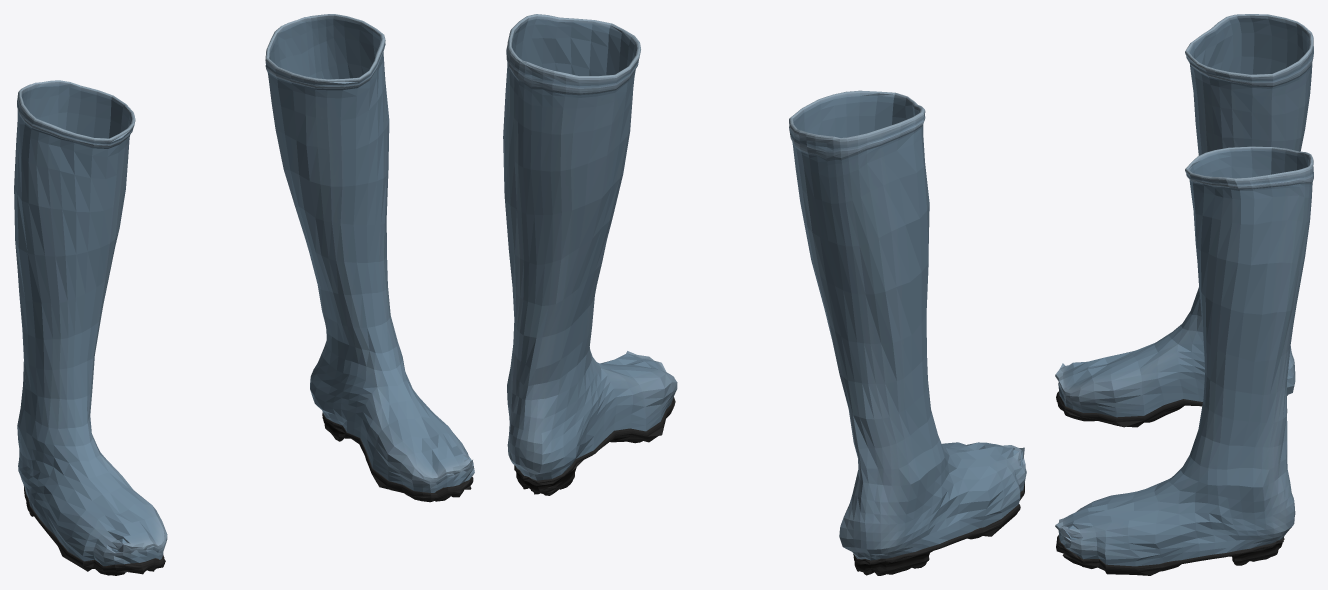
Rendered from mhw_scailman_semitransparent_water_boots.glb.
3 renders of one model, left to right at view 1: azimuth 30°, elevation 25°; view 2: azimuth 150°, elevation 25°; view 3: azimuth 270°, elevation 25°, orthographic. The views are drawn at different scales.
Visible parts, largest first — view 1: mhw_scailman_semitransparent_water_boots; view 2: mhw_scailman_semitransparent_water_boots; view 3: mhw_scailman_semitransparent_water_boots.
Part boxes in pixels (<box>): mhw_scailman_semitransparent_water_boots: <box>14,14,474,575</box>; mhw_scailman_semitransparent_water_boots: <box>503,14,1026,575</box>; mhw_scailman_semitransparent_water_boots: <box>1055,14,1313,575</box>.
Size of the model in its own units: 0.5404 by 0.5389 by 0.3228.
1 material, 1 textured.
